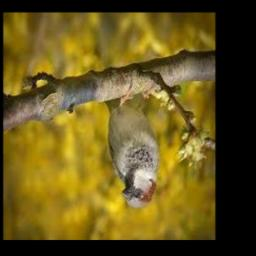Sparrow: (104, 92, 159, 209)
